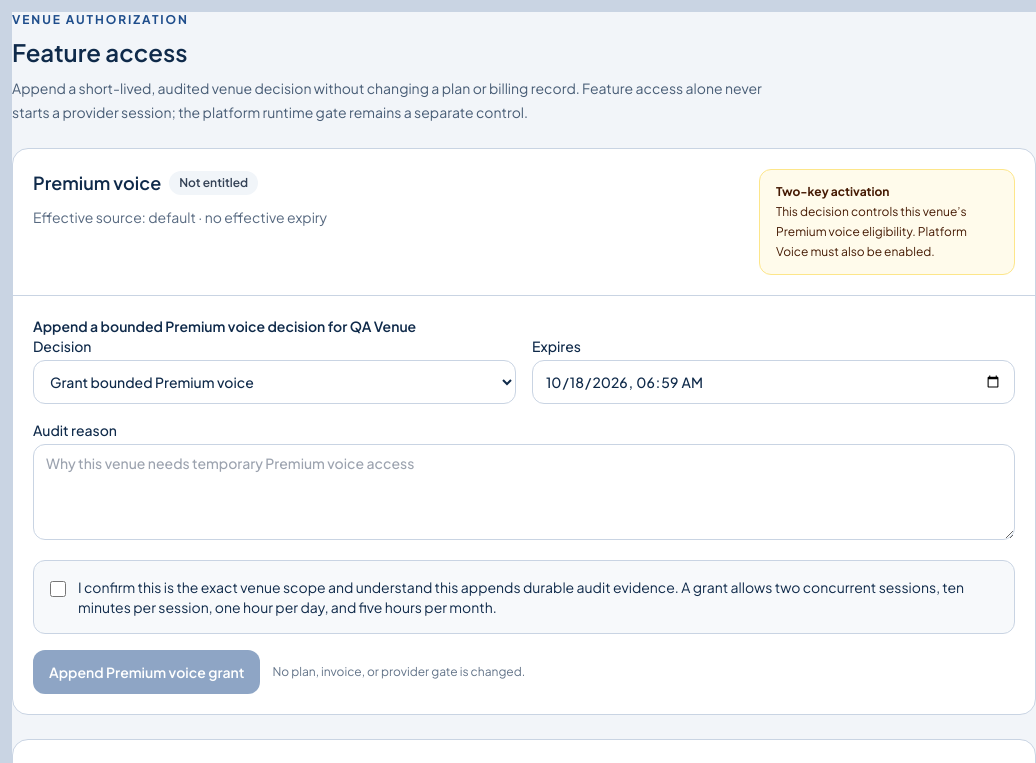
Scenario: VenueFeatureAccessControl › appends an exact-scoped, expiring grant with bounded canary settings
In the text box labelled "Audit reason": (524, 492) [33,444,1015,540], type "Founder-governed synthetic staging Voice canary"
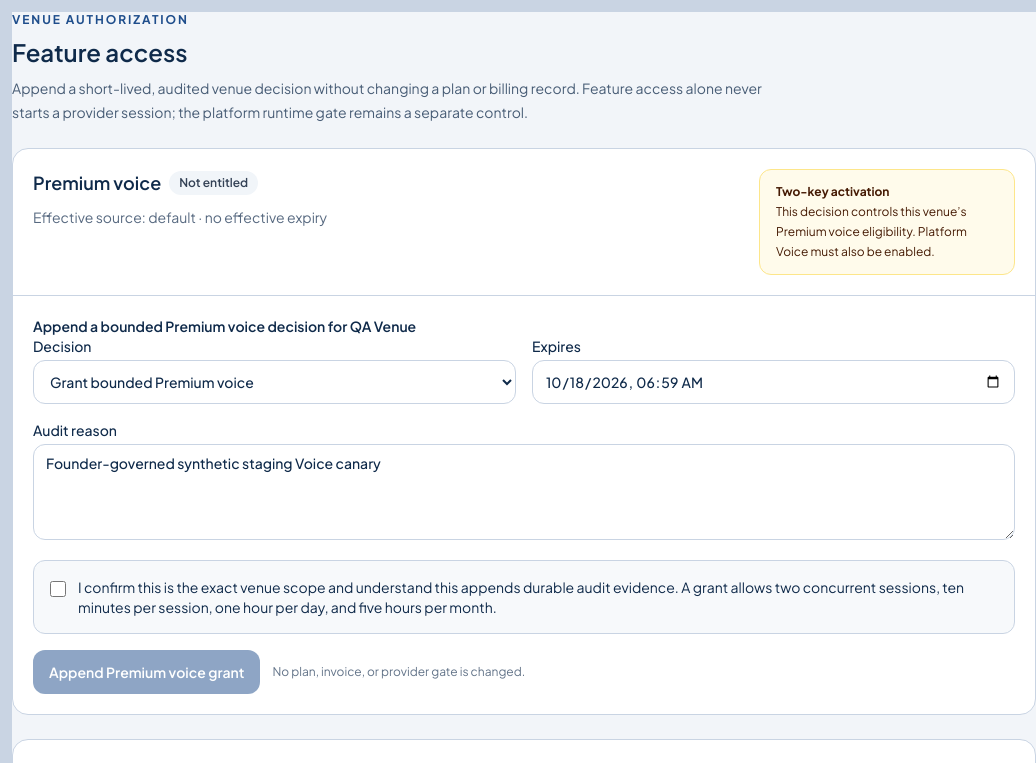
Click the checkbox: click(58, 589) [50,581,66,597]
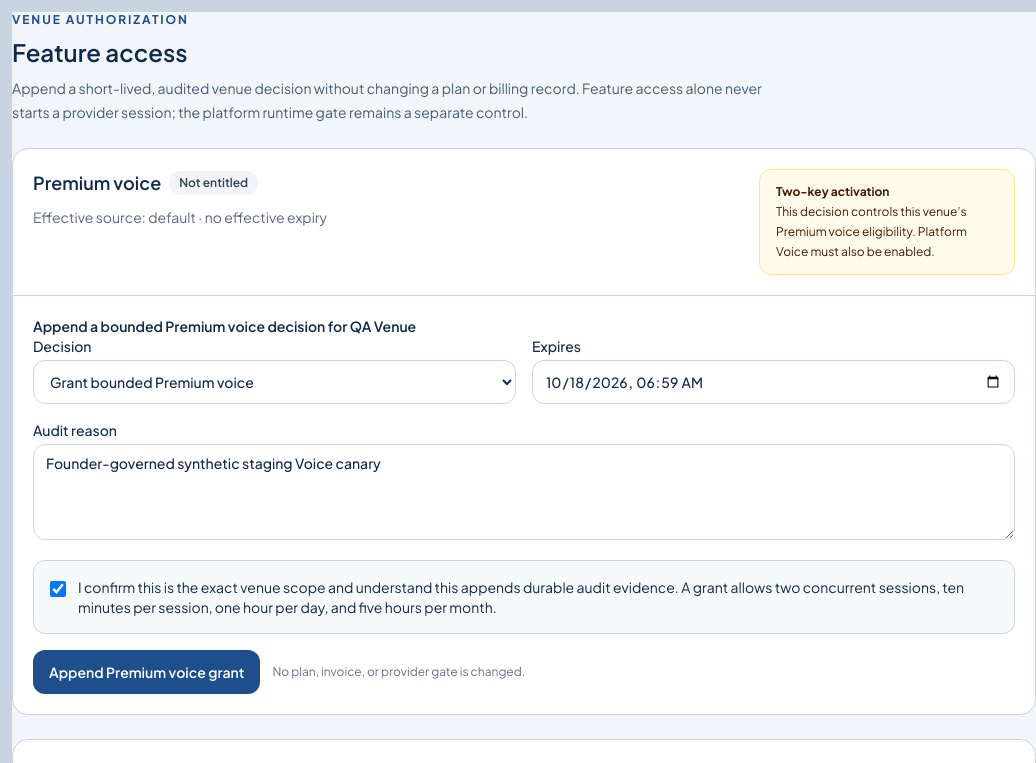
Click the button "Append Premium voice grant": click(147, 672) [33,650,260,694]
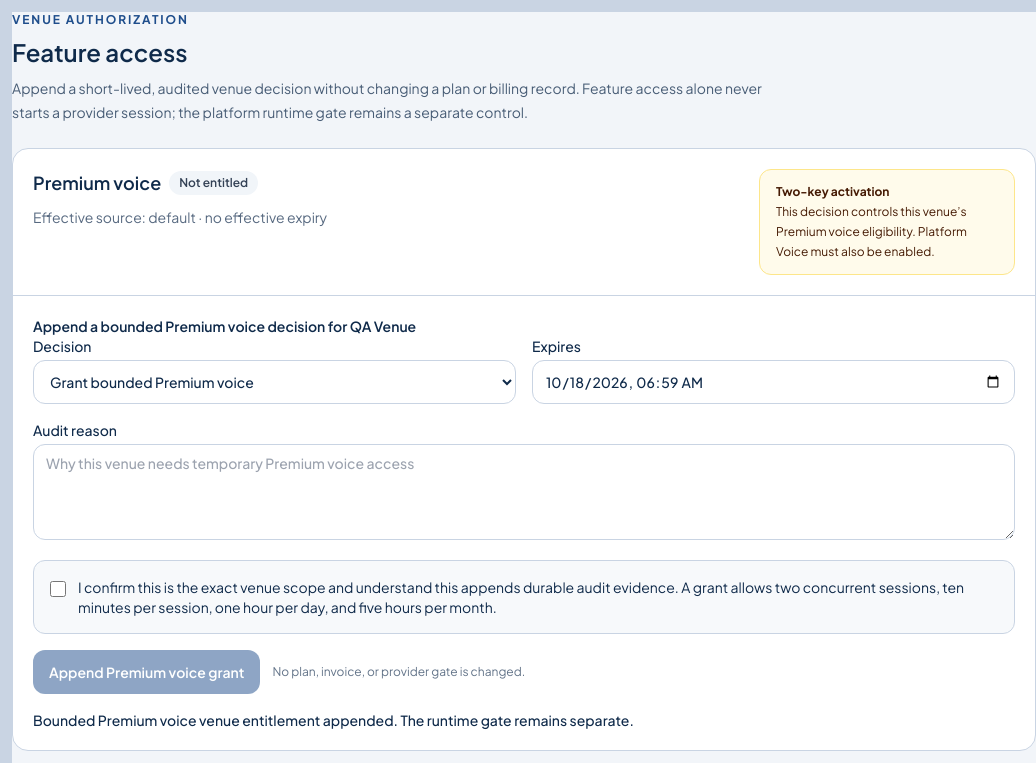
expect the text "runtime gate remains separate" is shown: met, box [33,711,634,729]
